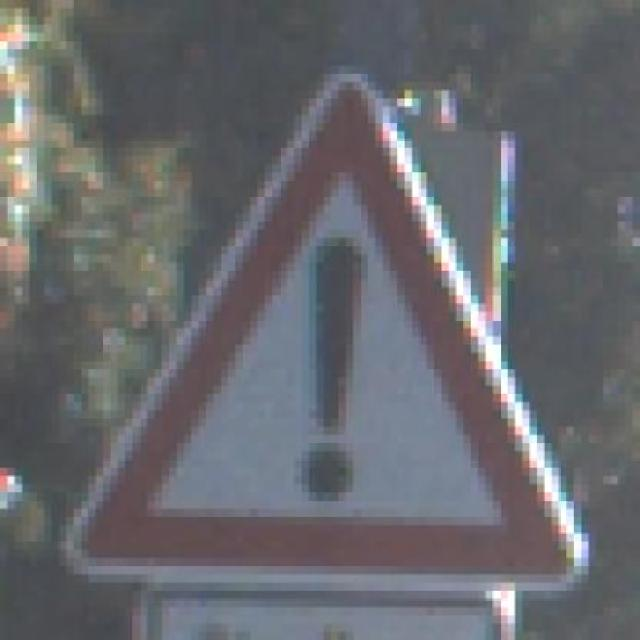Attention Please-: (22, 48, 610, 600)
